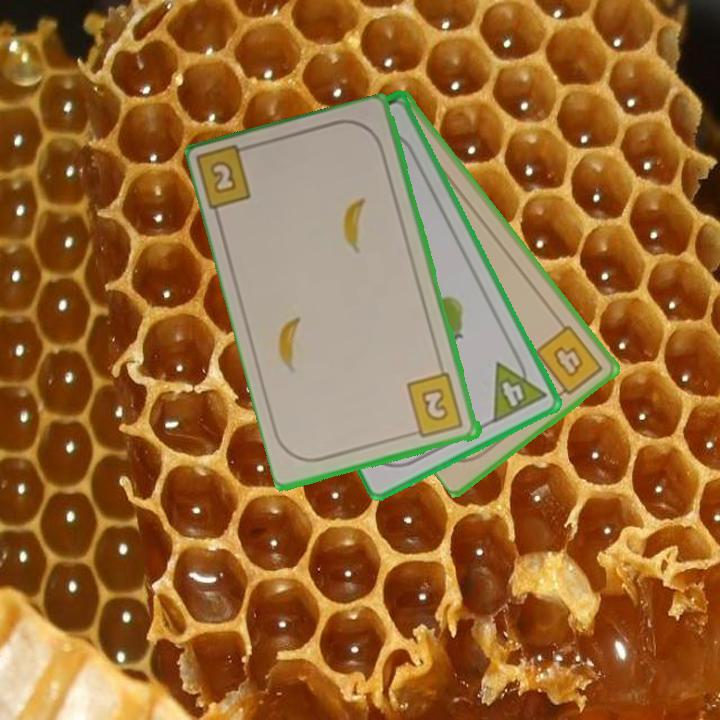2b: (196, 141, 260, 215), (403, 370, 467, 441)
4b: (531, 321, 606, 402)
4p: (489, 349, 549, 426)
